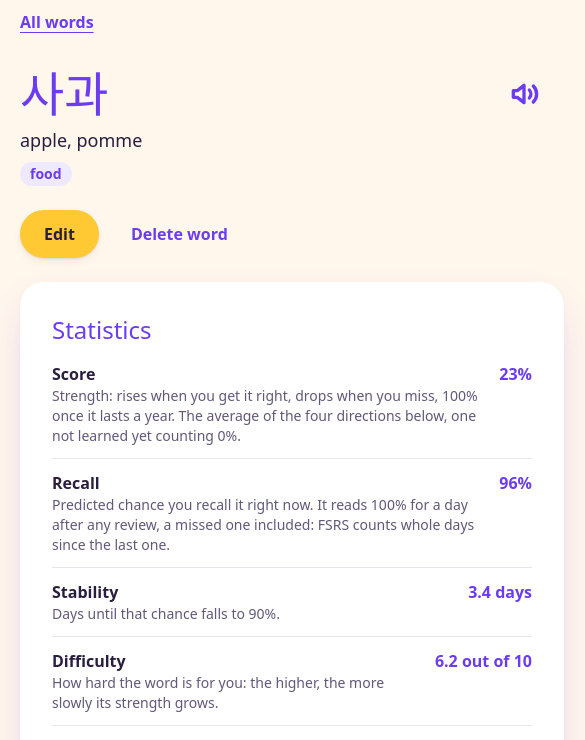
Test: saving sends a PUT with the translations as typed, then shows the saved word
The image size is (585, 740).
Click the button "Edit".
click(59, 234)  # box [20,210,99,258]
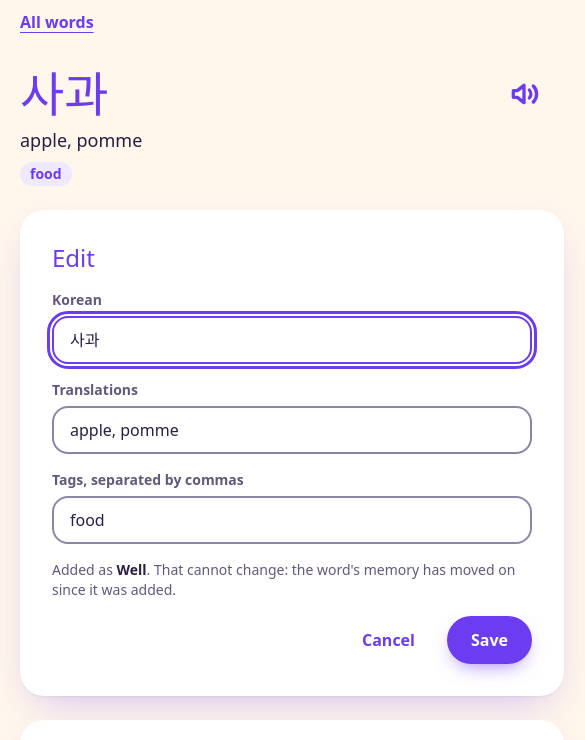
Replace the text in the field labelled "Translations" with "apple, pomme, Apfel" at (292, 430), box [52,406,532,454]
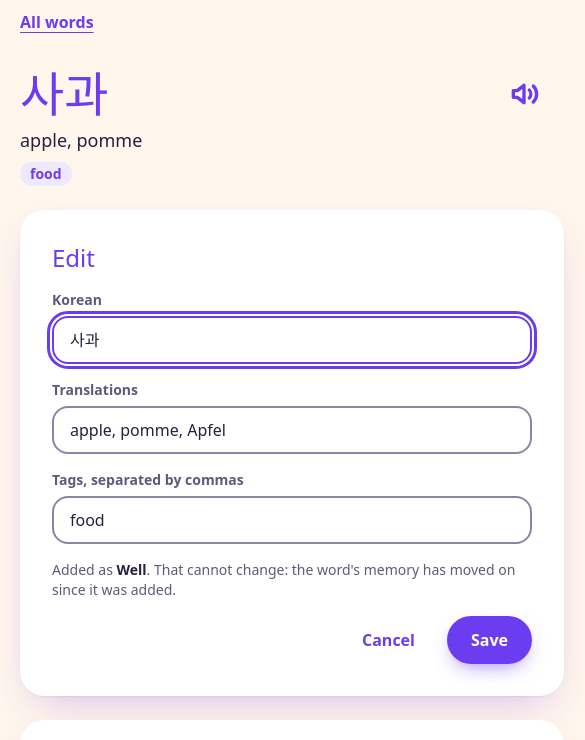
Replace the text in the field labelled "Tags, separated by commas" with "food, fruit" at (292, 520), box [52,496,532,544]
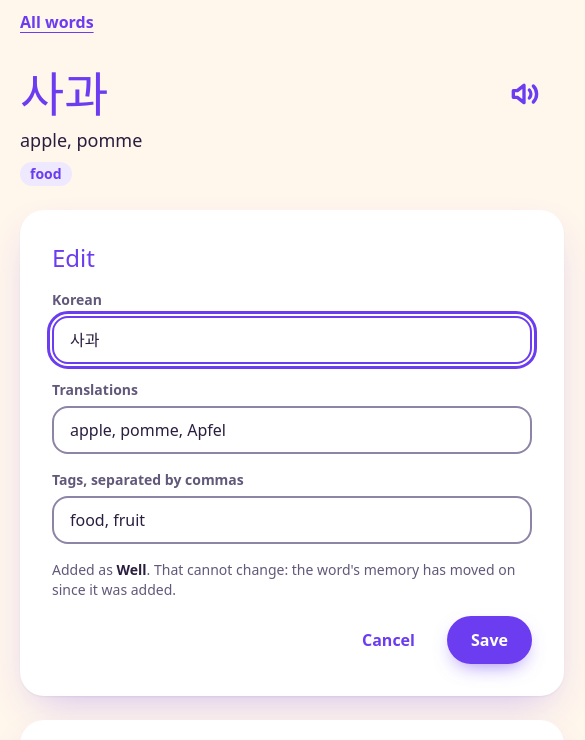
Click the button "Save".
click(490, 640)  # box [447,616,532,664]
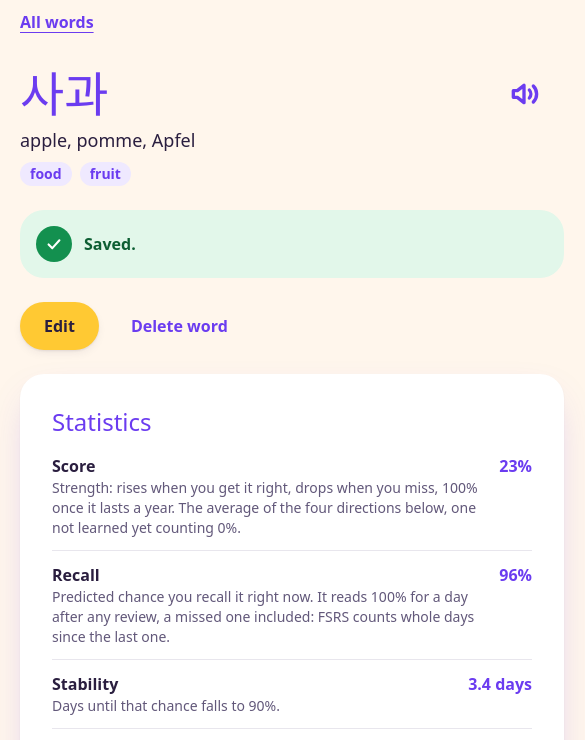
Expected: the text "apple, pomme, Apfel" is shown, [20,128,195,152]
Expected: the text "fruit" is shown, [80,162,131,186]
Expected: the message reads "Saved.", [84,233,136,255]
